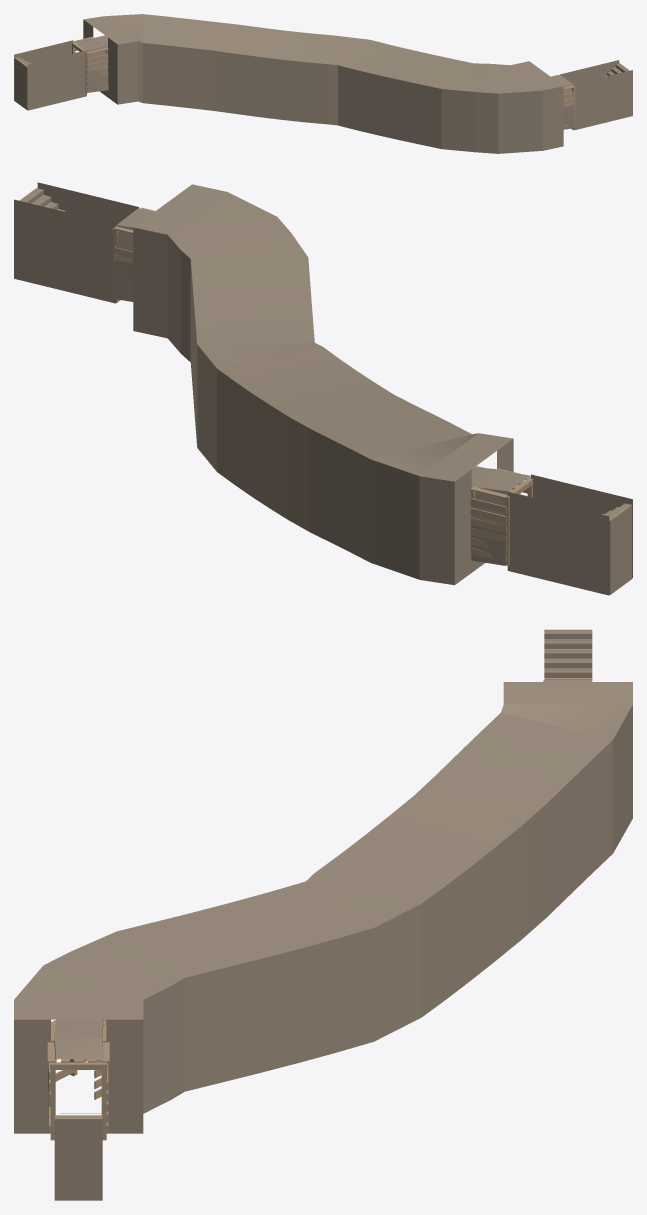
File: tunnel_b1_b2.glb
3 renders of one model, top to bottom at view 1: azimuth 30°, elevation 25°; view 2: azimuth 150°, elevation 25°; view 3: azimuth 270°, elevation 25°, orthographic. The views are drawn at different scales.
Parts seen in each view (by area): view 1: tunnel_b1_b2__earth, tunnel_b1_b2__timber; view 2: tunnel_b1_b2__earth, tunnel_b1_b2__timber; view 3: tunnel_b1_b2__earth, tunnel_b1_b2__timber.
Part boxes in pixels (box(x1,y1,x2,y2)): tunnel_b1_b2__earth: box(14, 14, 632, 153); tunnel_b1_b2__timber: box(14, 35, 629, 126); tunnel_b1_b2__earth: box(14, 182, 632, 595); tunnel_b1_b2__timber: box(19, 188, 631, 565); tunnel_b1_b2__earth: box(14, 631, 632, 1200); tunnel_b1_b2__timber: box(47, 629, 592, 1140).
Size of the model in its own units: 28.1 by 5.23 by 16.75.
